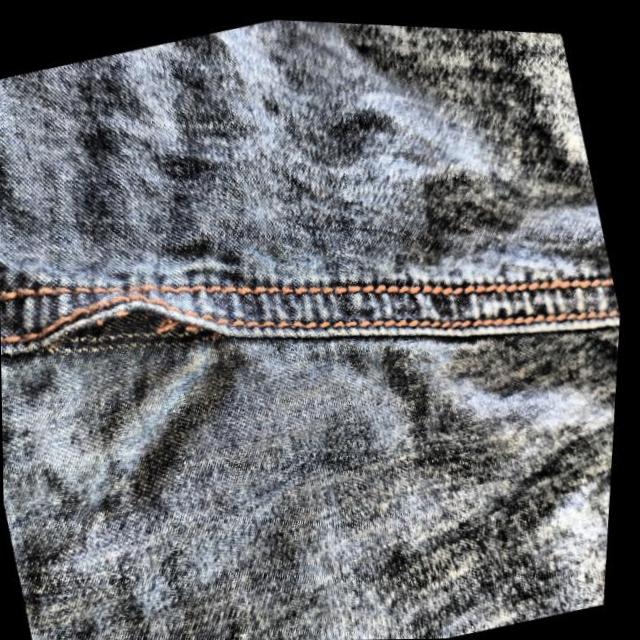hole: (41, 286, 226, 364)
seam: (224, 276, 622, 340), (0, 278, 43, 361)
